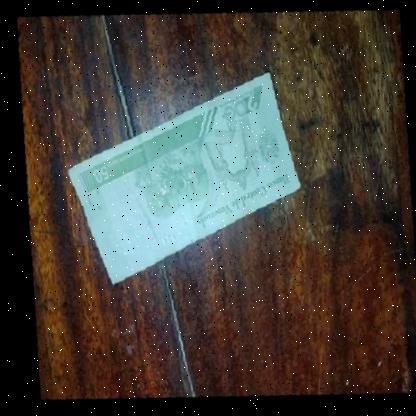fifty-back-vef: (49, 54, 315, 302)
